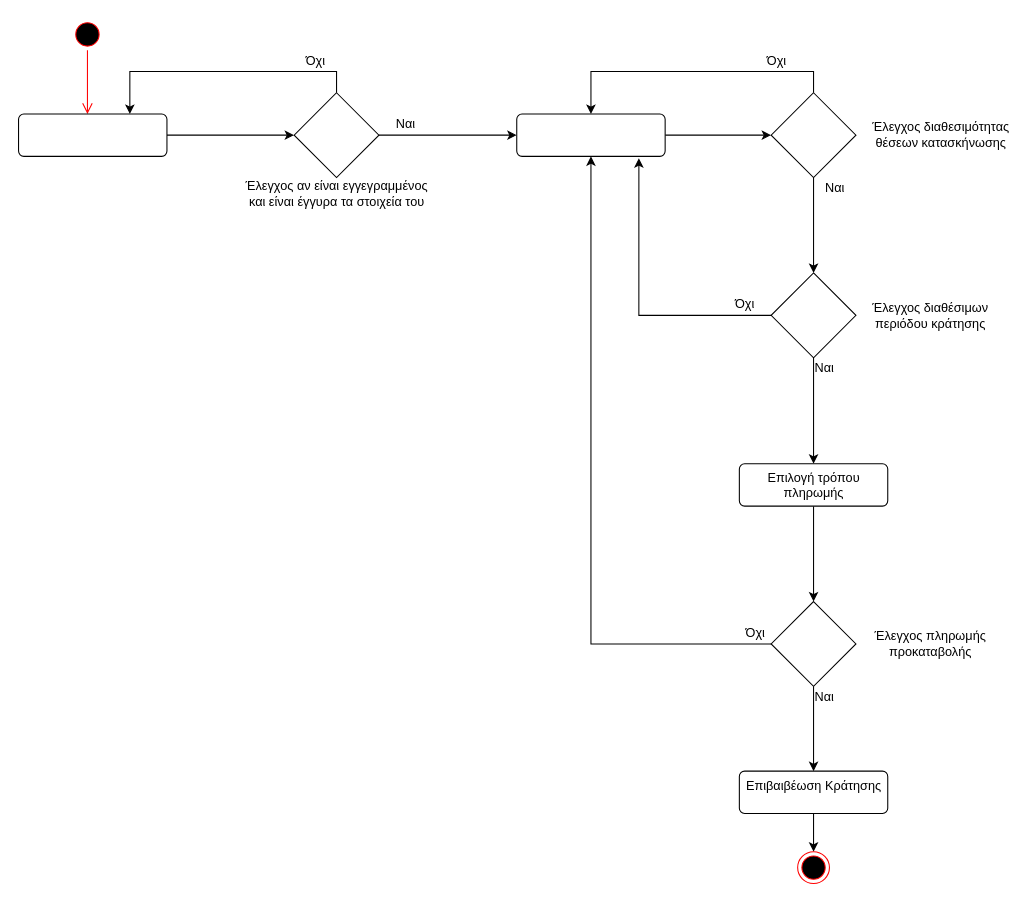
Some shapes in this 1034 by 902 pixel diagram are drawn without their labels. The box of each missing label's shape, as (x1, y1, x2, y2) in pixels:
Ταυτοποίηση πελάτη: (17, 113, 167, 156)
Υποβολή κράτησης: (516, 113, 665, 156)
